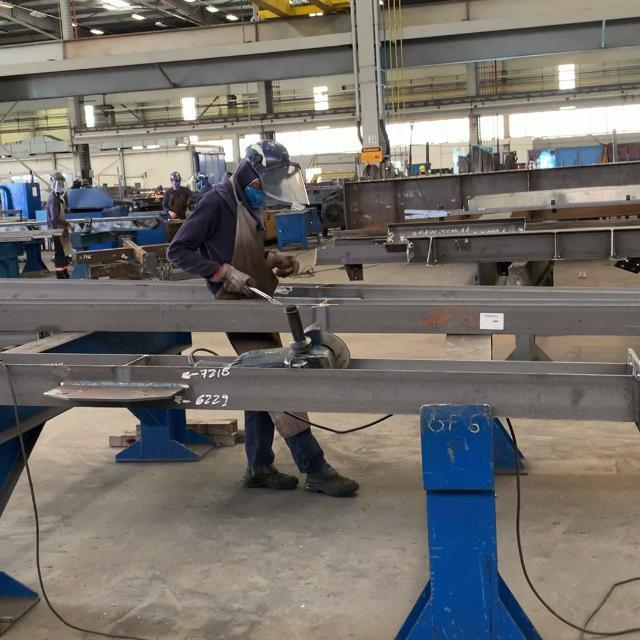eye-glass: (264, 157, 310, 213)
face-shield: (207, 266, 255, 298), (263, 252, 299, 280)
glove: (244, 137, 295, 175)
mask: (165, 138, 309, 299)
safety-shoe: (303, 456, 362, 498), (239, 461, 299, 494)
